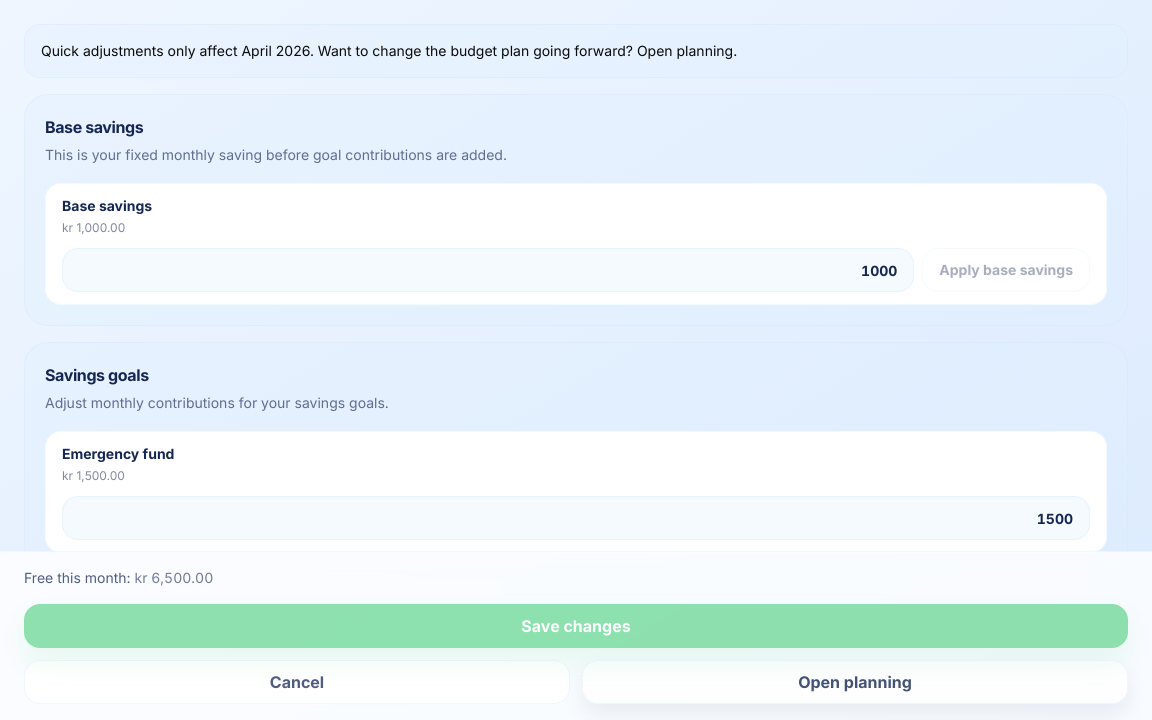
Scenario: SavingsPanel PR E base savings reconciliation › projects dirty base savings without enabling the goal Save button
The image size is (1152, 720).
Replace the text in the field named "Base savings" with "1200" at (488, 270), box top-left (62, 248), bottom-right (914, 292)
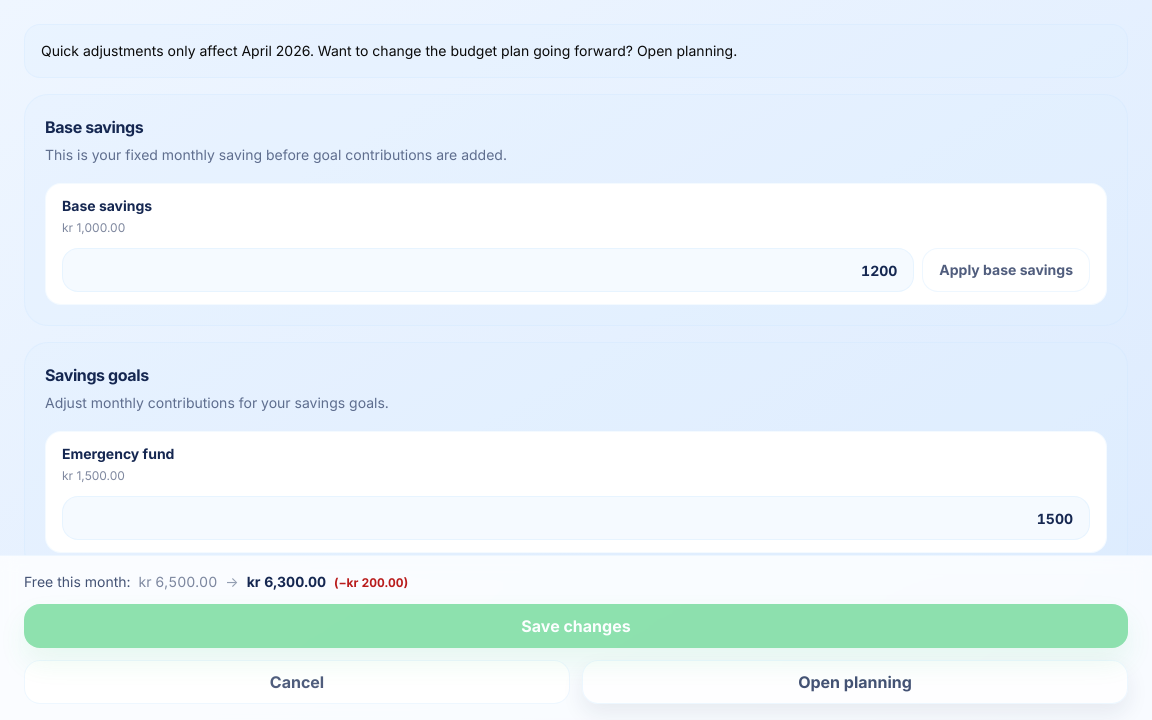
Expected: the button "Save changes" is disabled, top-left (24, 604), bottom-right (1128, 648)
Expected: the text with test id "quick-edit-projection-delta" shows "200", top-left (346, 575), bottom-right (404, 590)
